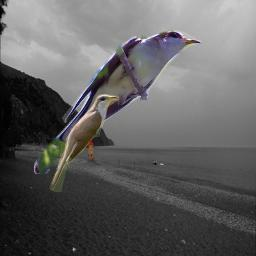Cuckoo: (34, 30, 201, 174), (48, 94, 119, 192)
